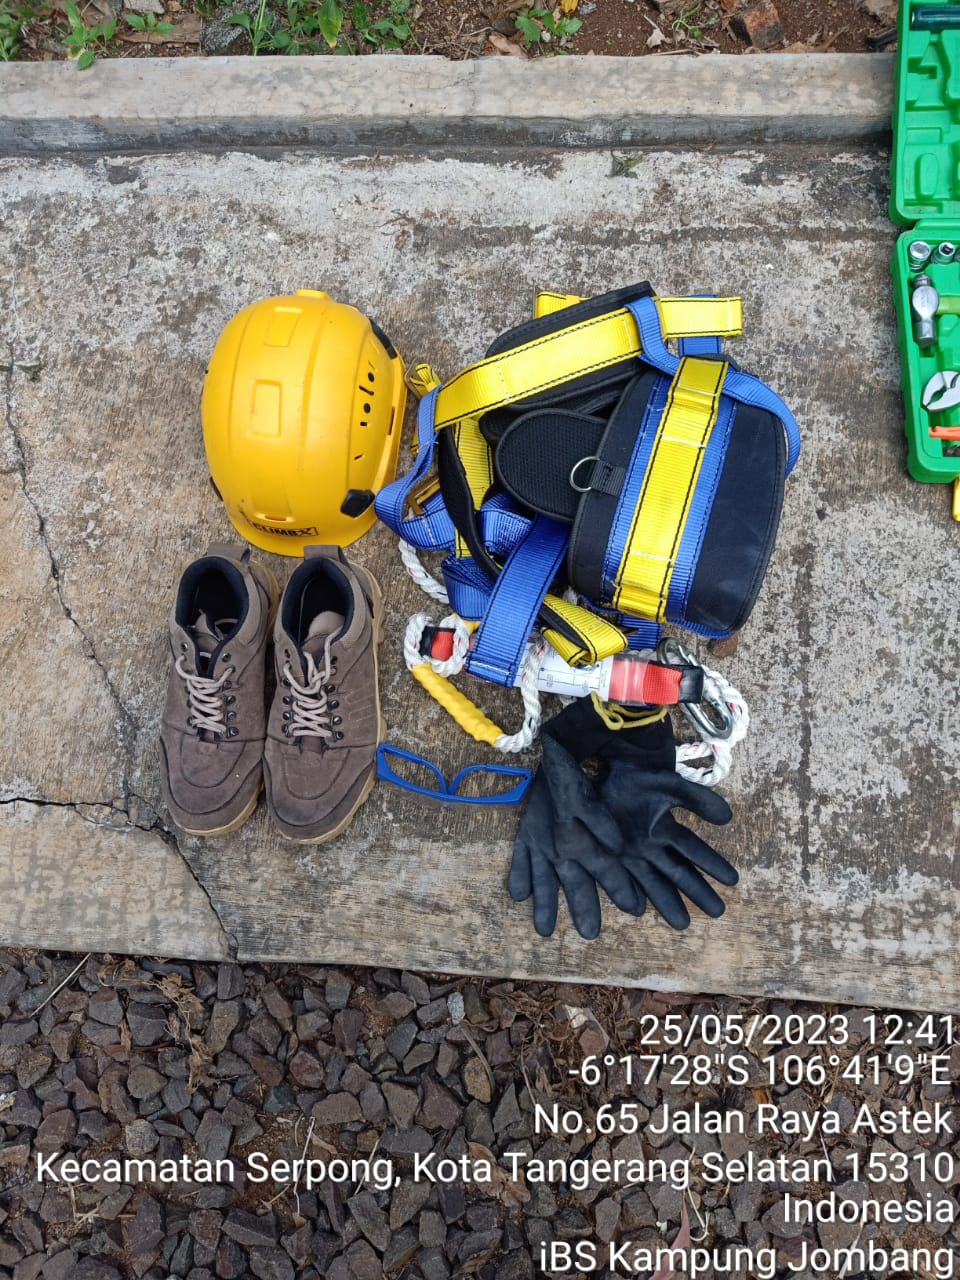HELM: (200, 290, 387, 540)
SARUNG_TANGAN: (519, 780, 731, 938)
